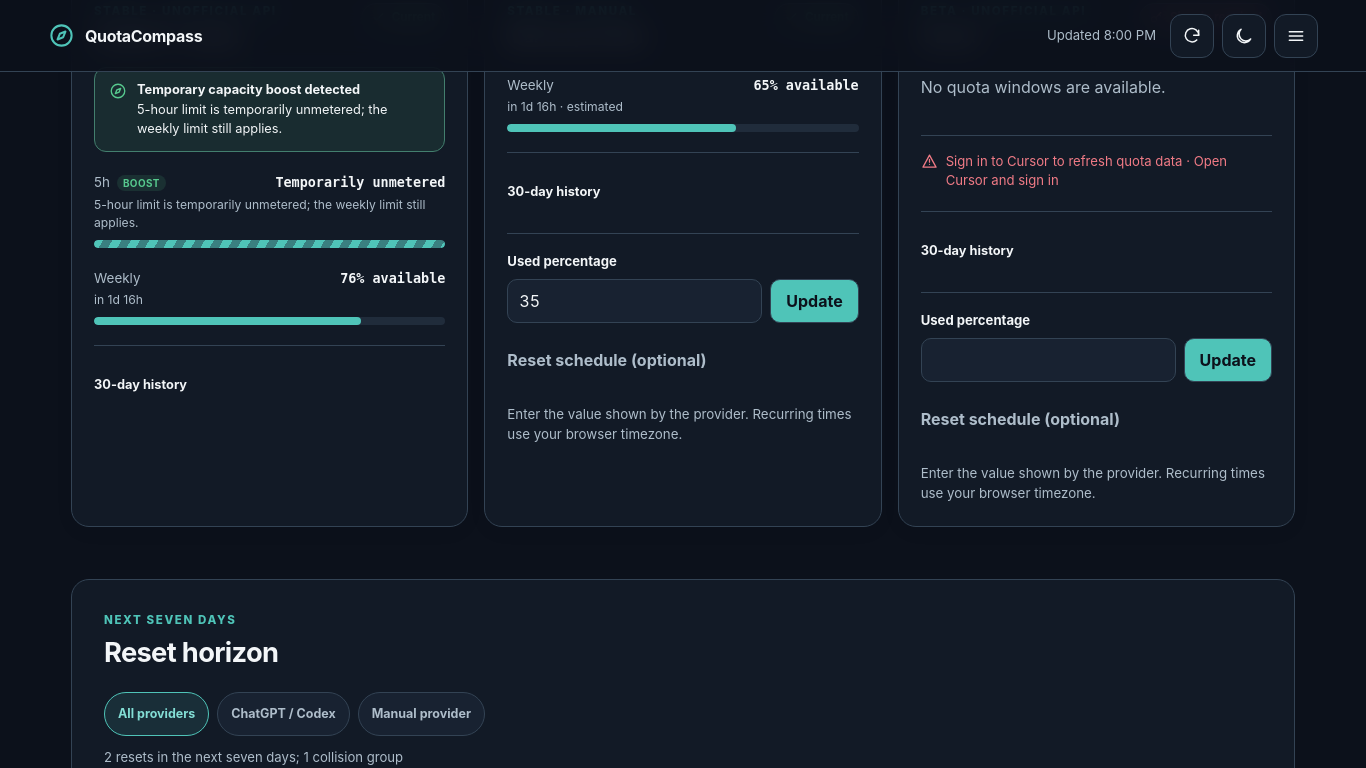
Test case: QuotaCompass dashboard accessibility › marks inferred history resets in both the chart and numeric table
(page scrolled)
Click the heading "30-day history" below "76% available" at x=140, y=384, box [94, 377, 187, 392]
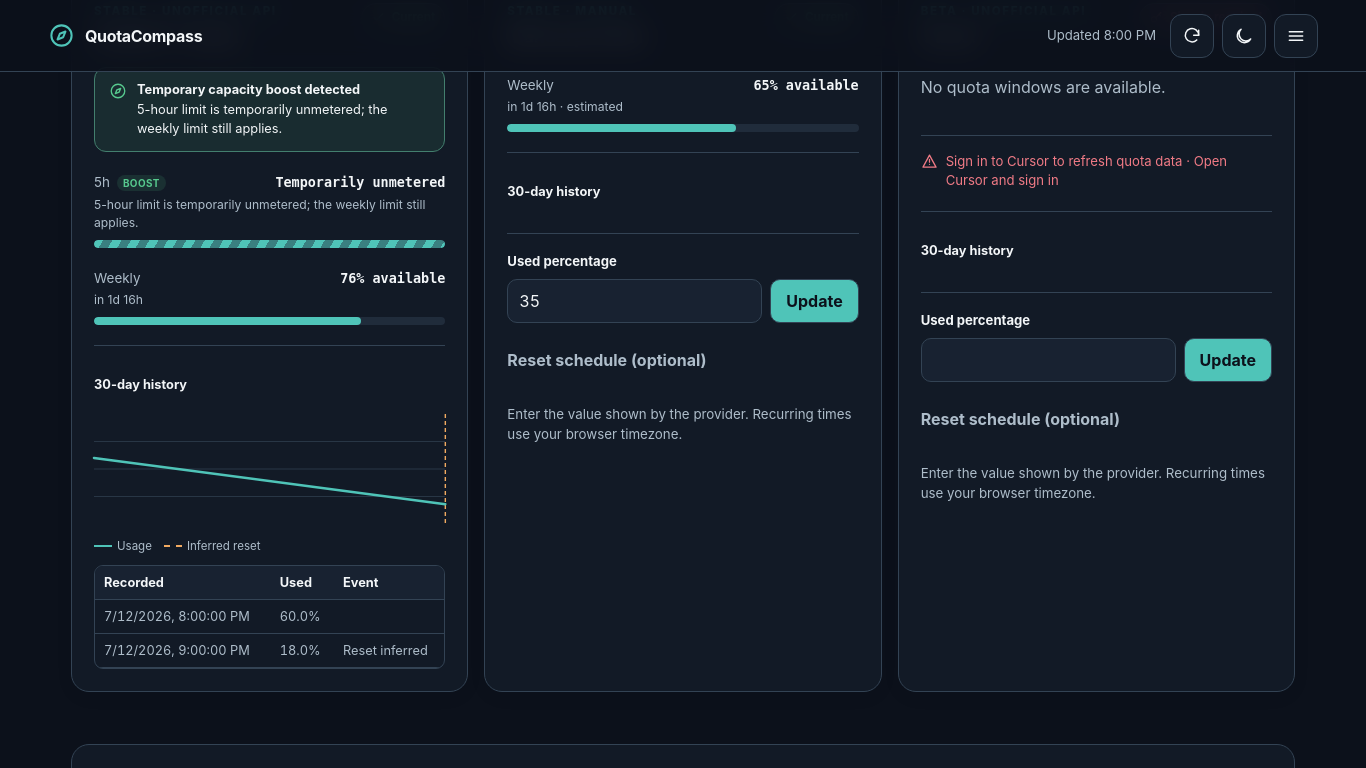
Now the cell "Reset inferred" is shown, box [334, 634, 444, 668]
Now the picture named "1 inferred reset boundary" is shown, box [94, 414, 445, 524]
